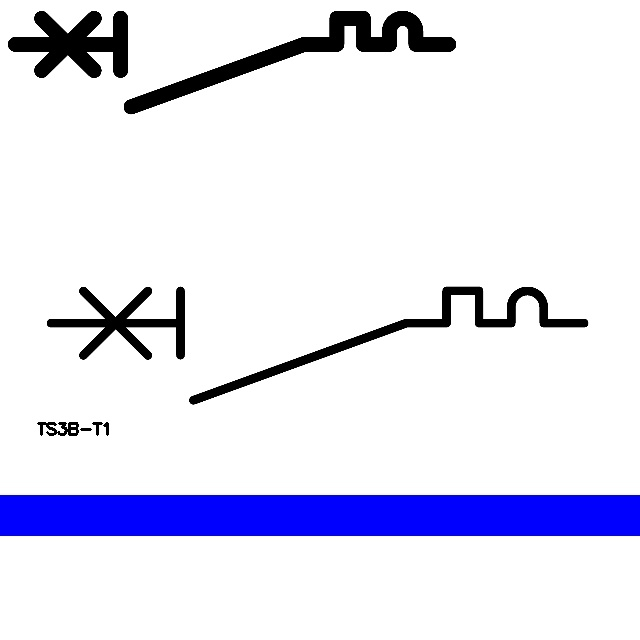interruptor_termomagnetico: (37, 277, 598, 414), (4, 7, 460, 118)
